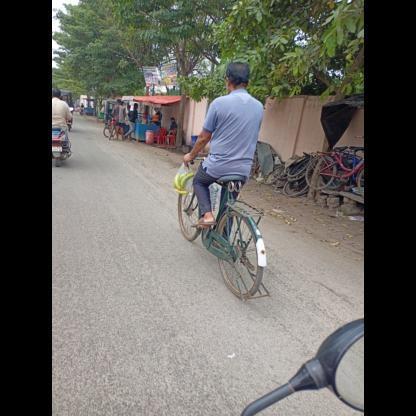Bicycle: (169, 136, 289, 303)
